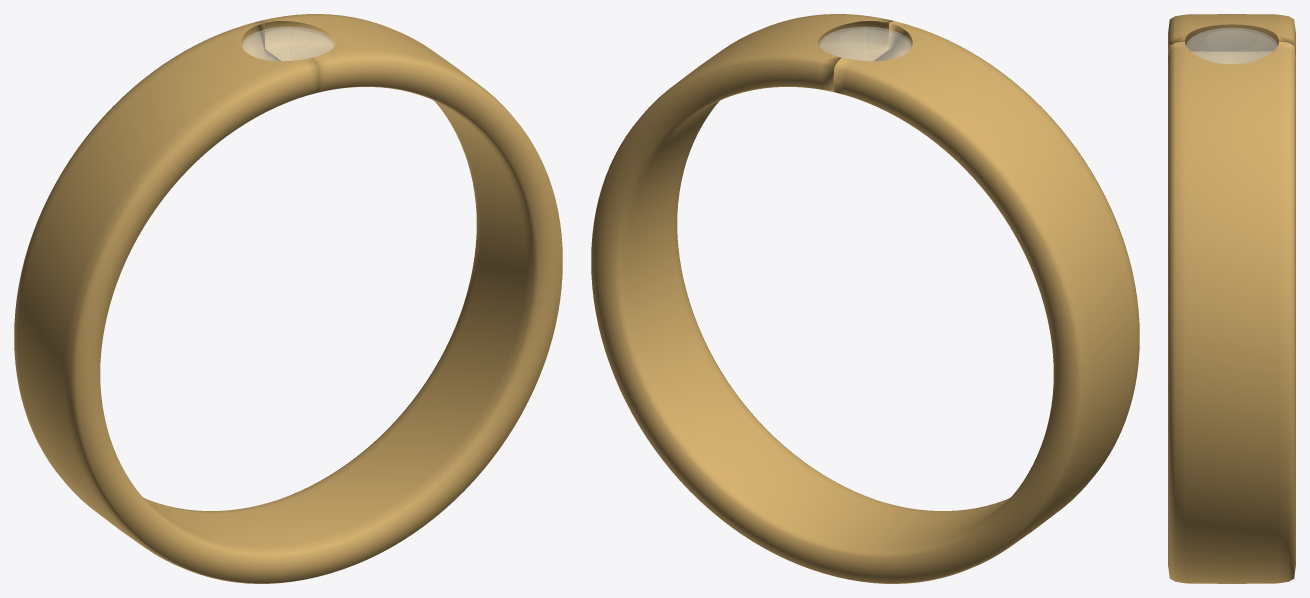
Rendered from settings-flush.glb.
3 views of the same model, side by side, from view 1: azimuth 30°, elevation 25°; view 2: azimuth 150°, elevation 25°; view 3: azimuth 270°, elevation 25° (orthographic).
Parts seen in each view (by area): view 1: Band, Gem; view 2: Band, Gem; view 3: Band, Gem.
Boxes of the visible parts, x1,y1,x2,y2 form: Band: (14,14,562,583); Gem: (242,26,334,60); Band: (591,14,1139,583); Gem: (819,26,911,60); Band: (1168,14,1295,583); Gem: (1186,28,1277,63).
Bounding box in the file's own units: 19.6 × 19.61 × 4.4.
